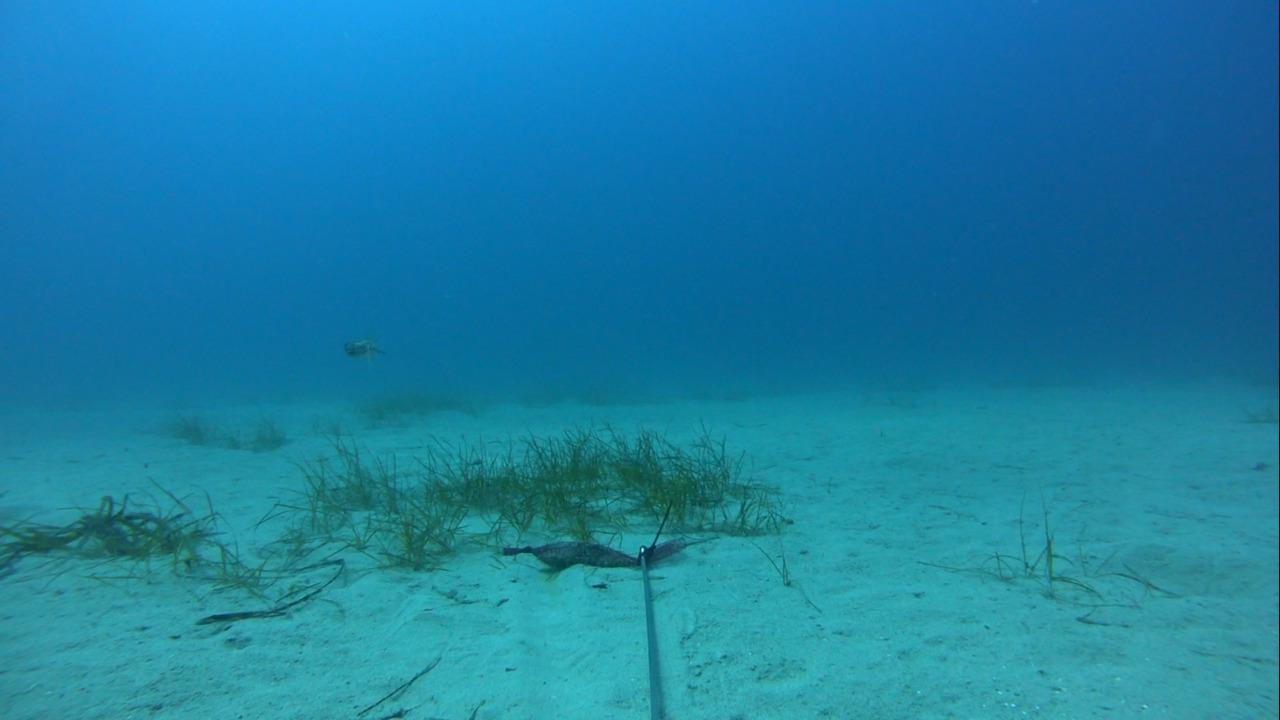dactylopterus: (326, 331, 397, 365)
